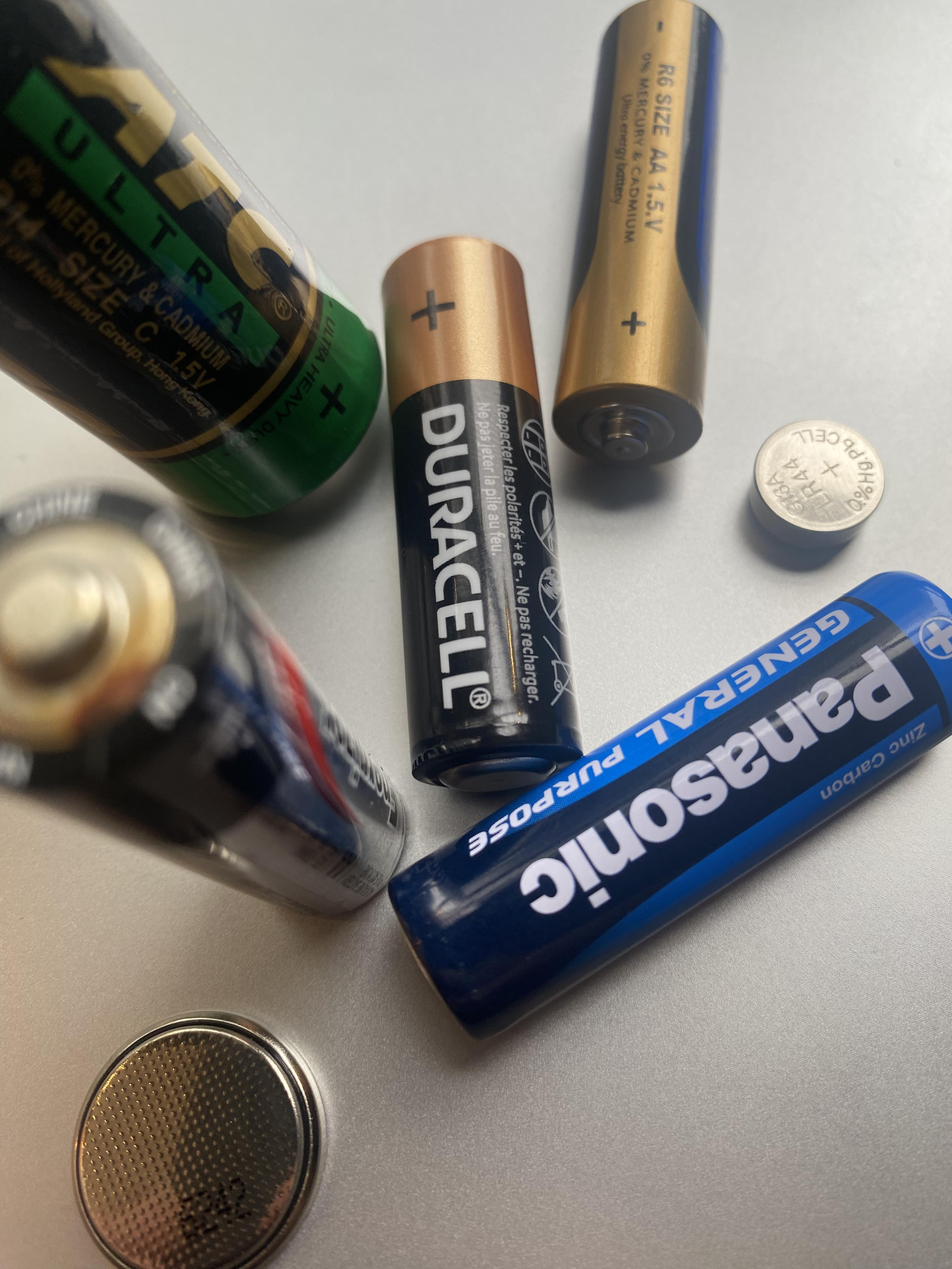AA: (386, 567, 951, 1042), (551, 0, 721, 467)
COIN: (31, 1010, 362, 1269), (743, 390, 894, 557)
